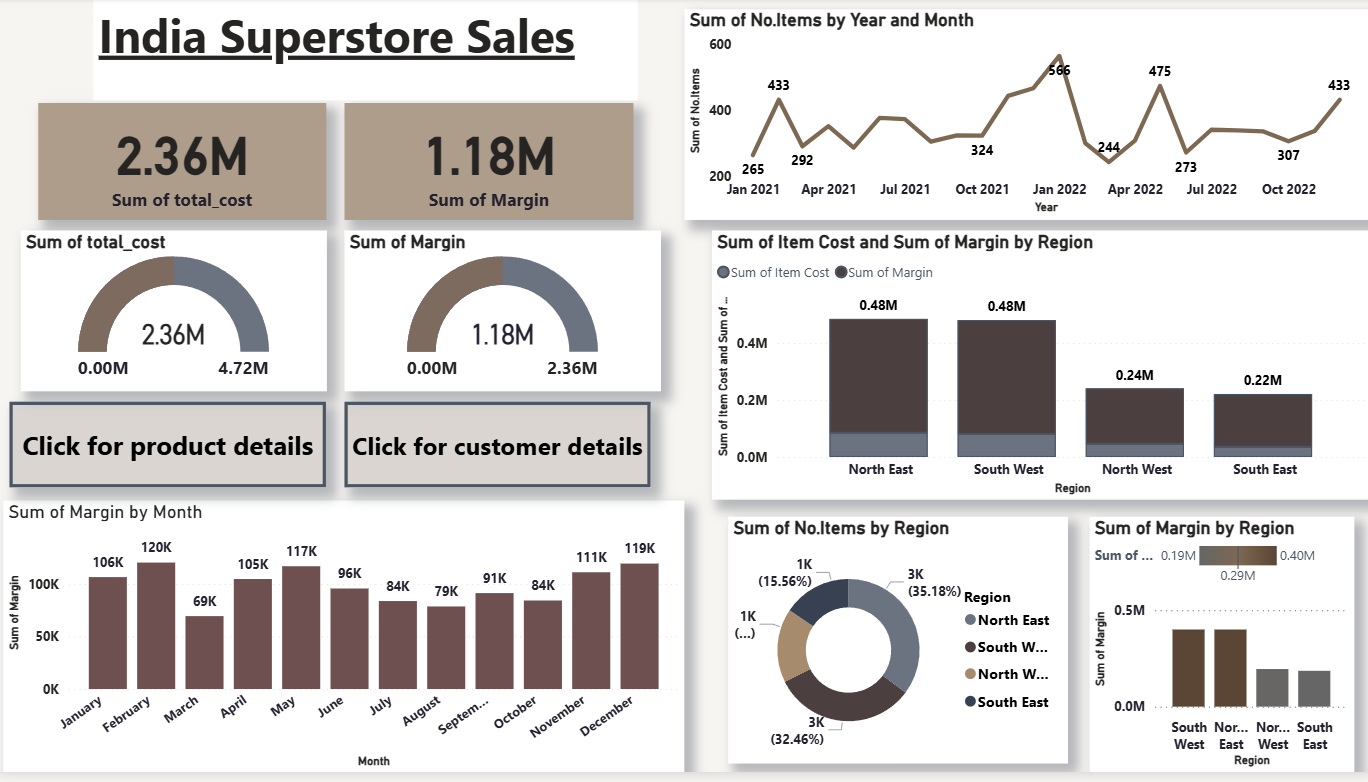

The page's visual inventory and layout, read from the dashboard file:
{"tool":"powerbi","page":{"name":"Page 1","canvas":[1280,720],"ordinal":0},"visuals":[{"type":"areaChart","fields":{"Category":["Raw_Data.Date.Variation.Date Hierarchy.Year","Raw_Data.Date.Variation.Date Hierarchy.Month"],"Y":["Sum(Raw_Data.No.Items)"]},"box":[639.5,11,640.8,195.7],"z":0},{"type":"columnChart","fields":{"Y":["Sum(Raw_Data.Item Cost)","Sum(Raw_Data.Margin)"],"Category":["Raw_Data.Region"]},"box":[665.2,216.4,615.1,250.7],"z":1000},{"type":"clusteredColumnChart","fields":{"Y":["Sum(Raw_Data.Margin)"],"Category":["Raw_Data.Region"]},"box":[1015.8,482.6,246.1,237.7],"z":2000},{"type":"donutChart","fields":{"Category":["Raw_Data.Region"],"Y":["Sum(Raw_Data.No.Items)"]},"box":[680.4,482.6,316.1,229.2],"z":3000},{"type":"card","fields":{"Values":["Sum(Raw_Data.total_cost)"]},"box":[38.6,97.7,267.8,108.6],"z":4000},{"type":"card","fields":{"Values":["Sum(Raw_Data.Margin)"]},"box":[323.3,97.7,269,108.6],"z":5000},{"type":"gauge","fields":{"Y":["Sum(Raw_Data.total_cost)"]},"box":[21.7,216,284.7,149.6],"z":6000},{"type":"gauge","fields":{"Y":["Sum(Raw_Data.Margin)"]},"box":[323.3,216,294.4,149.6],"z":7000},{"type":"clusteredColumnChart","fields":{"Y":["Sum(Raw_Data.Margin)"],"Category":["Raw_Data.Date.Variation.Date Hierarchy.Month"]},"box":[6,466.9,633.4,253.4],"z":8000},{"type":"textbox","box":[89.3,0,506.7,95.3],"z":9000},{"type":"actionButton","box":[323.3,375.2,284.7,79.6],"z":9001},{"type":"actionButton","box":[12.1,375.2,294.4,79.6],"z":9002}]}

Visuals, with their boxes in screenshot pixels (x1, y1, x2, y2), scaled from the page's 1280x720 canvas onto the 1368x782 screenshot:
areaChart - Raw_Data.Date.Variation.Date Hierarchy.Year x Raw_Data.Date.Variation.Date Hierarchy.Month: 683, 12, 1367, 224
columnChart - Sum(Raw_Data.Item Cost) x Sum(Raw_Data.Margin): 711, 235, 1367, 507
clusteredColumnChart - Sum(Raw_Data.Margin) x Raw_Data.Region: 1086, 524, 1349, 781
donutChart - Raw_Data.Region x Sum(Raw_Data.No.Items): 727, 524, 1065, 773
card - Sum(Raw_Data.total_cost): 41, 106, 327, 224
card - Sum(Raw_Data.Margin): 346, 106, 633, 224
gauge - Sum(Raw_Data.total_cost): 23, 235, 327, 397
gauge - Sum(Raw_Data.Margin): 346, 235, 660, 397
clusteredColumnChart - Sum(Raw_Data.Margin) x Raw_Data.Date.Variation.Date Hierarchy.Month: 6, 507, 683, 781
textbox: 95, 0, 637, 104
actionButton: 346, 408, 650, 494
actionButton: 13, 408, 328, 494
